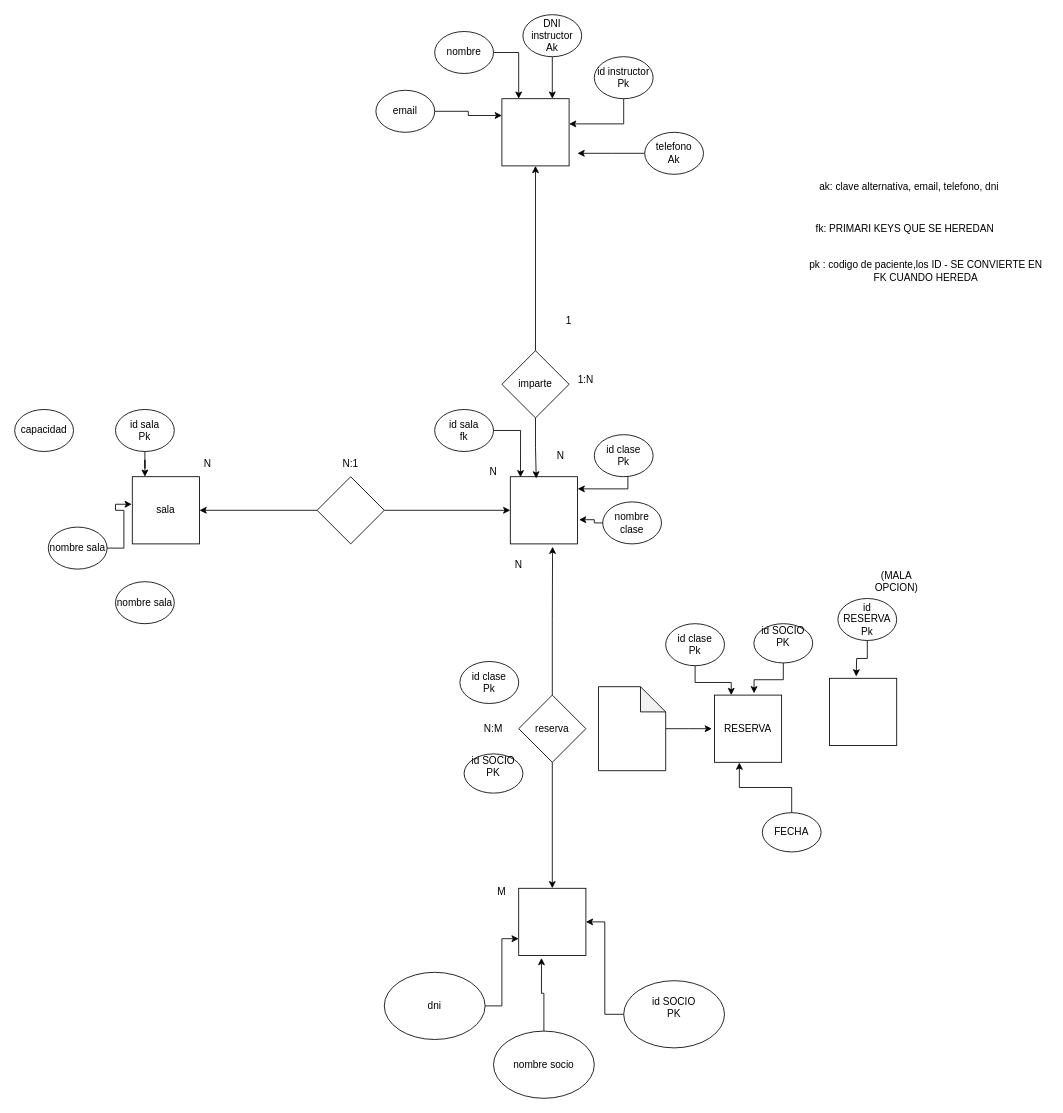
Some shapes in this 1063 by 1113 pixel diagram are drawn without their labels. The shapes that lost their labels are listed below. From the top down, each one's centre as x and y in pixels, then its label:
(535,132): instructor
(350,510): aloja
(543,510): clase
(632,728): se convierte en tabla intermedia
(863,711): RESERVA CLASE-SOCIO
(552,921): socio
